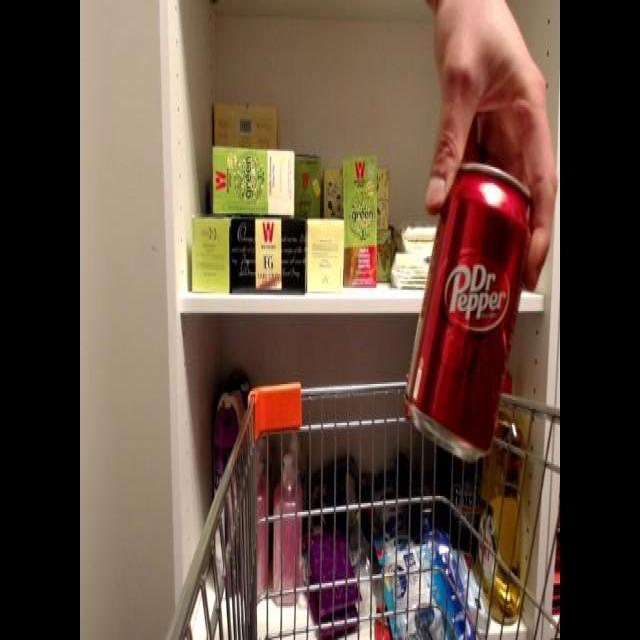Dr Pepper: (398, 147, 538, 470)
